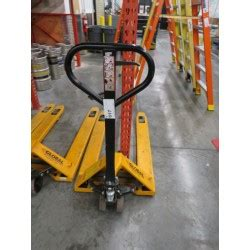Pallet Jack: (64, 41, 158, 214)
